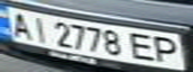2: (48, 18, 72, 48)
7: (84, 25, 106, 54), (66, 21, 87, 51)
8: (103, 26, 127, 57)
A: (3, 10, 36, 39)
E: (127, 30, 160, 62)
I: (24, 14, 51, 43)
P: (148, 34, 187, 65)
